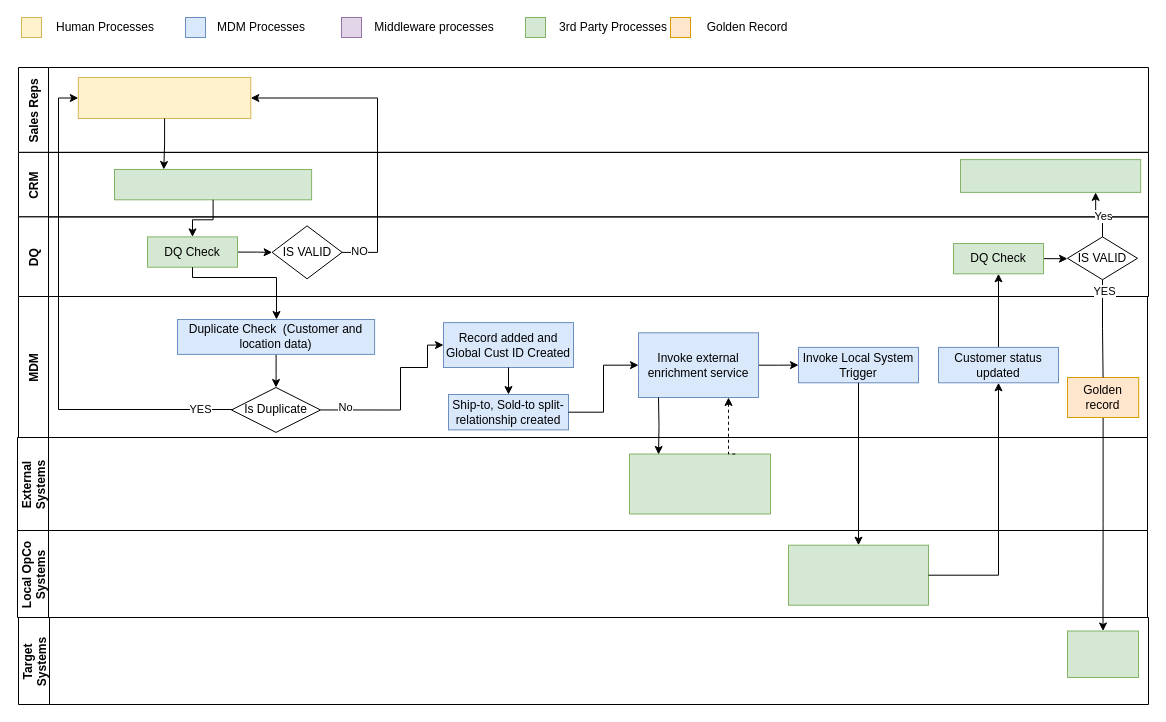
Some shapes in this 1166 by 722 pixel diagram are drawn without their labels. Each missing label, with the centre of its shape:
"Chamber of commerce Credit Data Segmentation Data Social Data" belongs at point (699, 483).
"Changes a prospect to be customer" belongs at point (164, 97).
"Customer status changes" belongs at point (1050, 175).
"Data Sync" belongs at point (1102, 654).
"OpCo Business users checks and complete approval processes in the System" belongs at point (858, 574).
"Validation process triggered" belongs at point (213, 184).
